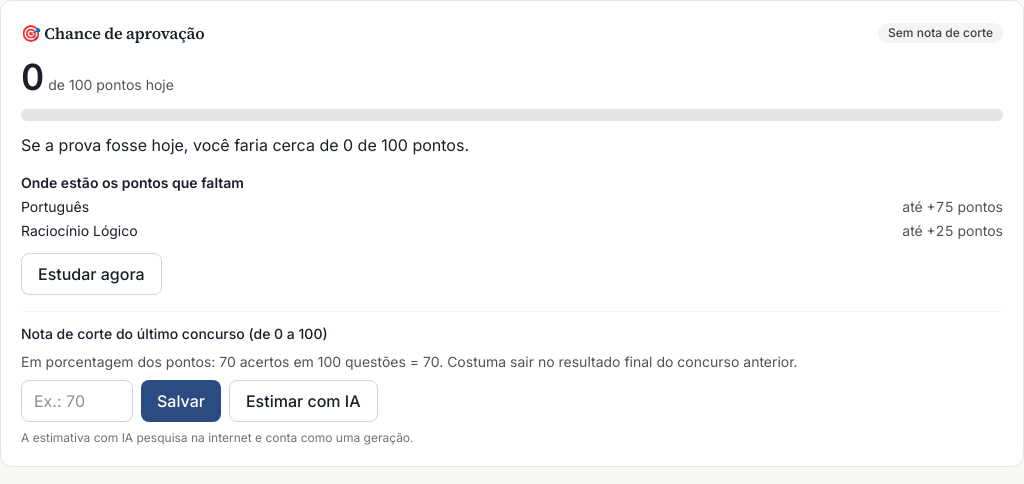
Test: Chance de aprovação › mostra a nota de hoje e salva a nota de corte digitada
Expected: the text "Se a prova fosse hoje, você faria cerca de 0 de 100 pontos." is shown, [21, 135, 469, 155]
Type "70" into the field labelled "Nota de corte do último concurso (de 0 a 100)". click: (77, 401)
box: [21, 380, 133, 422]
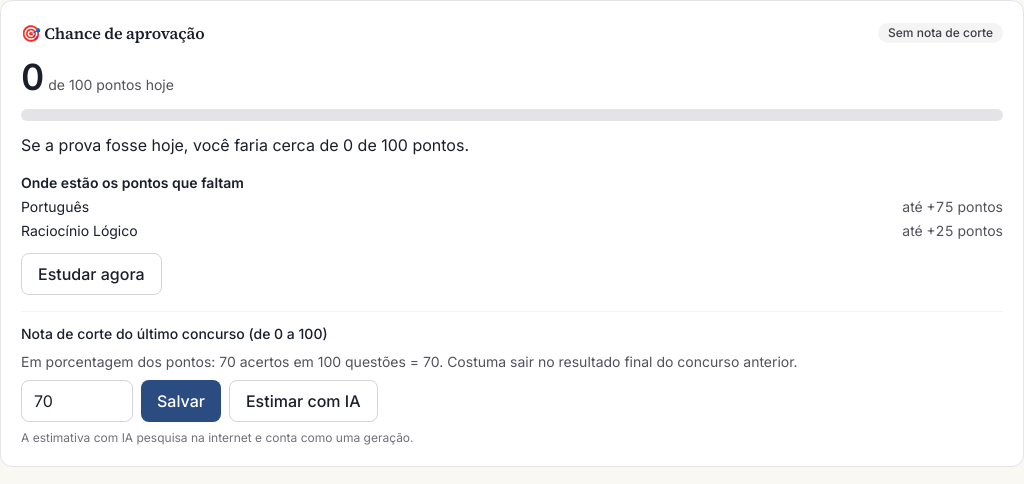
Click the button "Salvar". click: (181, 401)
box: [141, 380, 221, 422]
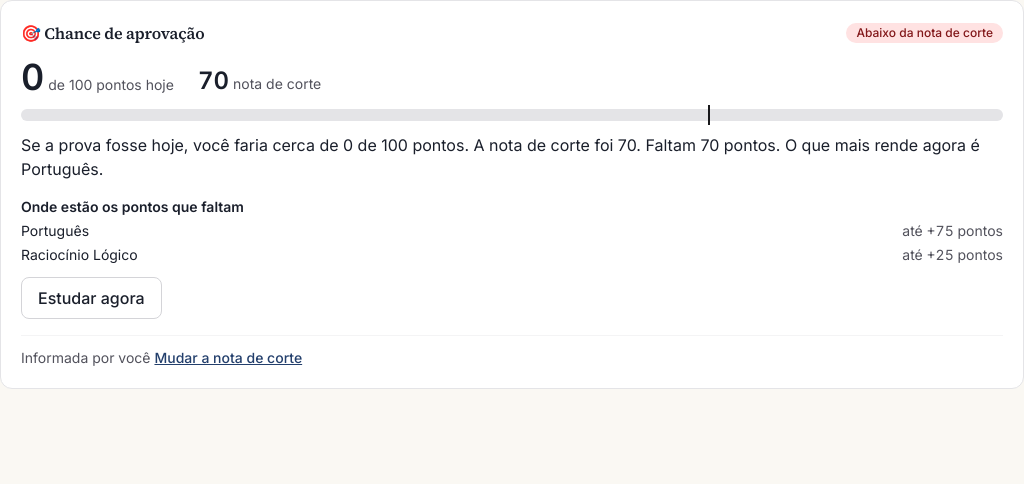
Expected: the text "Raciocínio Lógico" is shown, [21, 245, 138, 265]
Expected: the text "A nota de corte foi 70" is shown, [21, 135, 980, 179]
